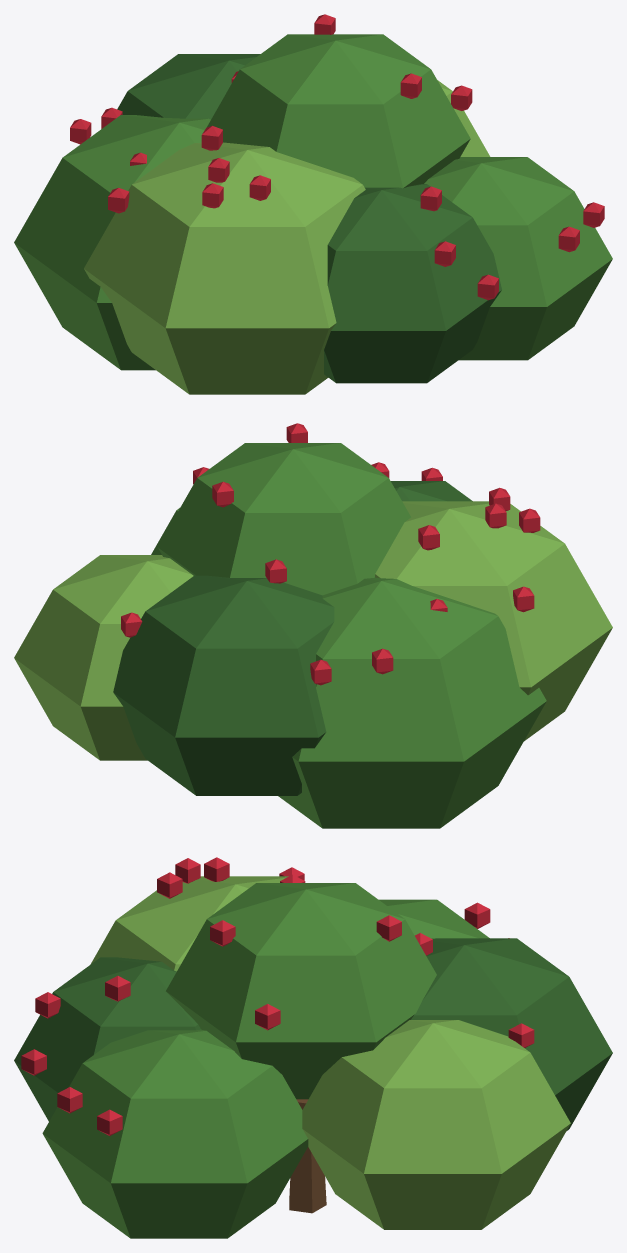
The model's file is bush_berries.glb.
3 renders of one model, top to bottom at view 1: azimuth 30°, elevation 25°; view 2: azimuth 150°, elevation 25°; view 3: azimuth 270°, elevation 25°, orthographic. The views are drawn at different scales.
Visible parts, largest first — view 1: scatter_bush_berries; view 2: scatter_bush_berries; view 3: scatter_bush_berries.
Part boxes in pixels (box(x1,y1,x2,y2)): scatter_bush_berries: box(14, 14, 612, 394); scatter_bush_berries: box(14, 423, 612, 828); scatter_bush_berries: box(14, 857, 612, 1238).
Size of the model in its own units: 1.75 by 1.23 by 2.03.
